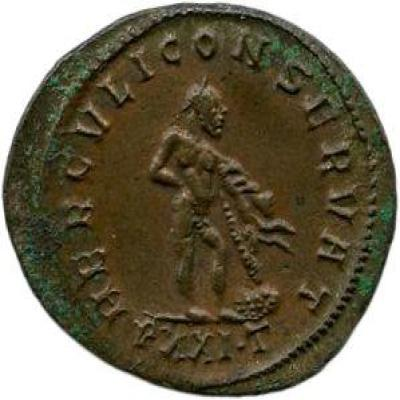numismatics: (5, 5, 395, 394)
